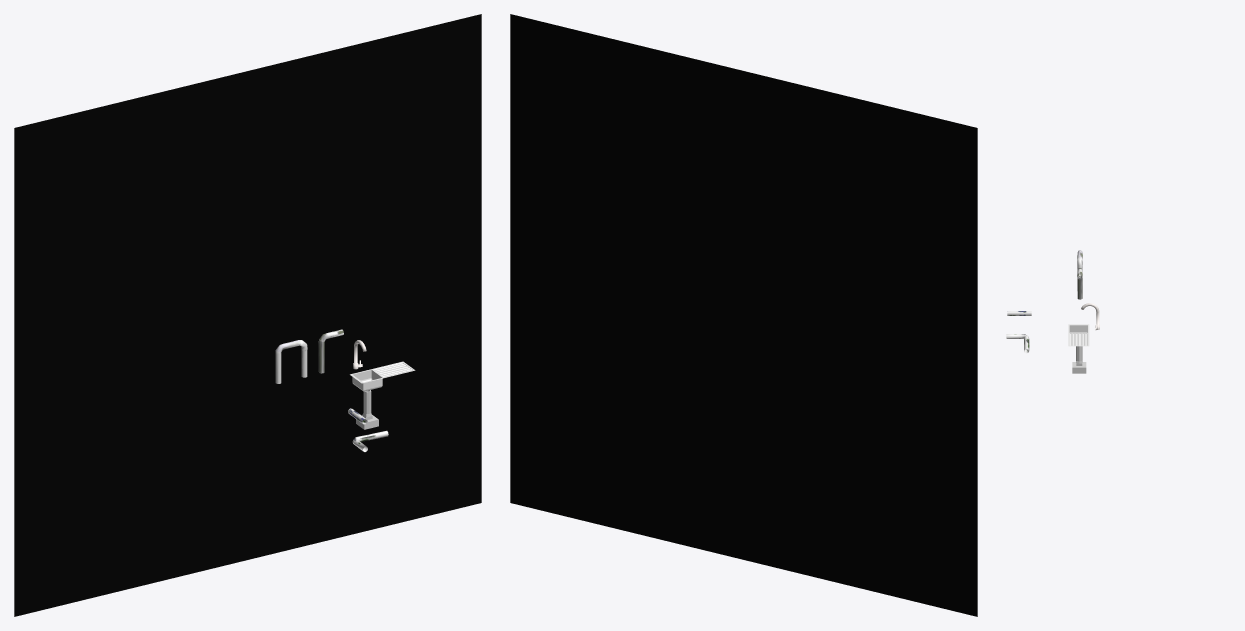
Rendered from borularveevye.fbx.
3 renders of one model, left to right at view 1: azimuth 30°, elevation 25°; view 2: azimuth 150°, elevation 25°; view 3: azimuth 270°, elevation 25°, orthographic. The views are drawn at different scales.
Visible parts, largest first — view 1: arkaplan, lavabo, U BORU; view 2: arkaplan; view 3: lavabo.
Boxes of the visible parts, bbox=[...] form: arkaplan: bbox=[14, 14, 481, 616]; lavabo: bbox=[350, 361, 415, 391]; U BORU: bbox=[275, 340, 307, 383]; arkaplan: bbox=[510, 14, 977, 616]; lavabo: bbox=[1068, 324, 1089, 346].
Bounding box in the file's own units: 5588 × 5588 × 2759.
10 materials, 4 textured.
